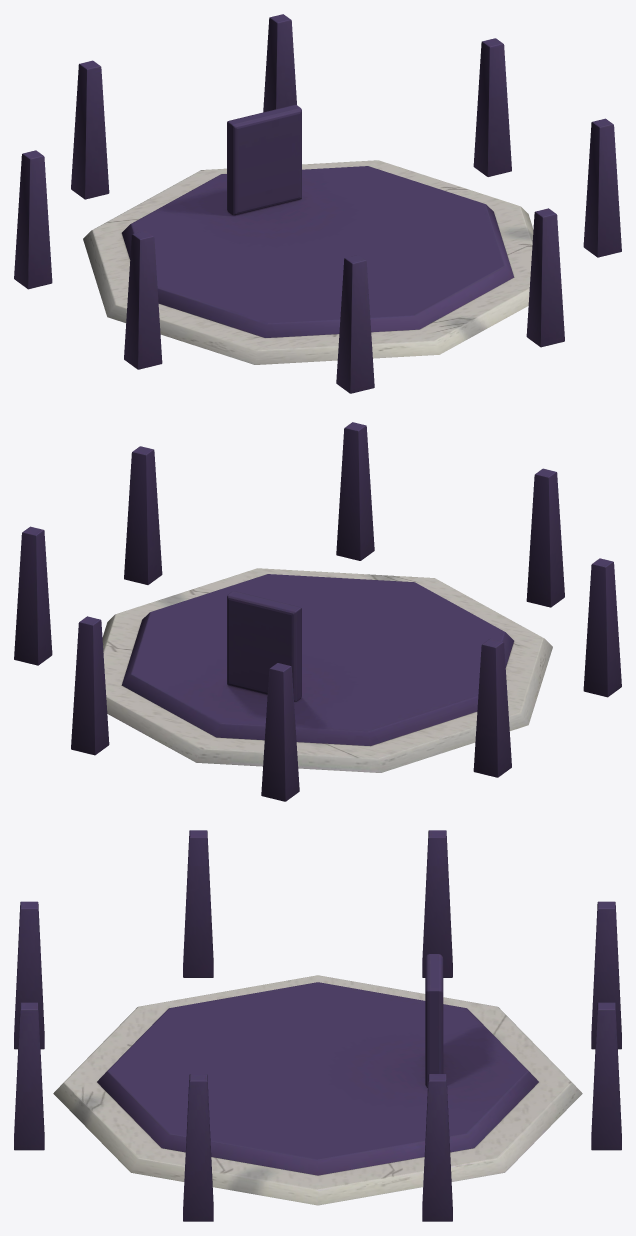
Rendered from raidAltar.glb.
The picture shows the model from 3 angles, top to bottom: view 1: azimuth 30°, elevation 25°; view 2: azimuth 150°, elevation 25°; view 3: azimuth 270°, elevation 25°; orthographic projection. The views are drawn at different scales.
Visible parts, largest first — view 1: Mesh_0; view 2: Mesh_0; view 3: Mesh_0.
Boxes of the visible parts, x1,y1,x2,y2 form: Mesh_0: (14,14,621,393); Mesh_0: (14,422,621,801); Mesh_0: (14,830,621,1221).
Size of the model in its own units: 16.74 by 4.21 by 16.74.
Materials: 1 (1 with a texture image).
